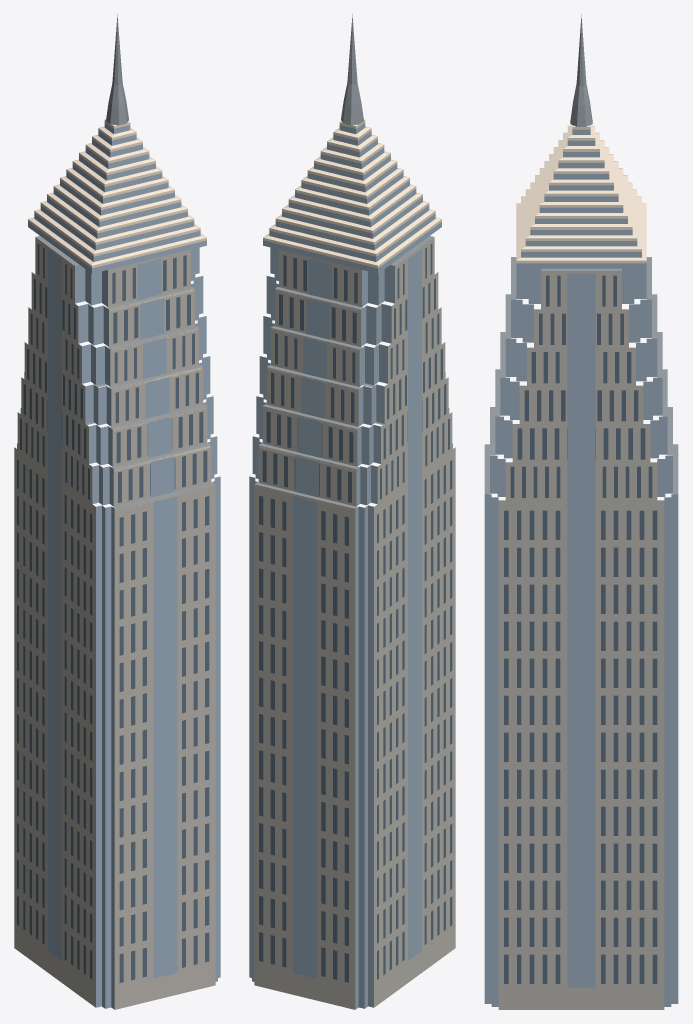
The model's file is chi-two-prudential-plaza.glb.
3 renders of one model, left to right at view 1: azimuth 30°, elevation 25°; view 2: azimuth 150°, elevation 25°; view 3: azimuth 270°, elevation 25°, orthographic.
Visible parts, largest first — view 1: Two Prudential Plaza; view 2: Two Prudential Plaza; view 3: Two Prudential Plaza.
Boxes of the visible parts, x1,y1,x2,y2 form: Two Prudential Plaza: (14, 14, 220, 1009); Two Prudential Plaza: (249, 14, 455, 1009); Two Prudential Plaza: (484, 14, 678, 1009).
Bounding box in the file's own units: 41.82 × 303 × 55.32.
